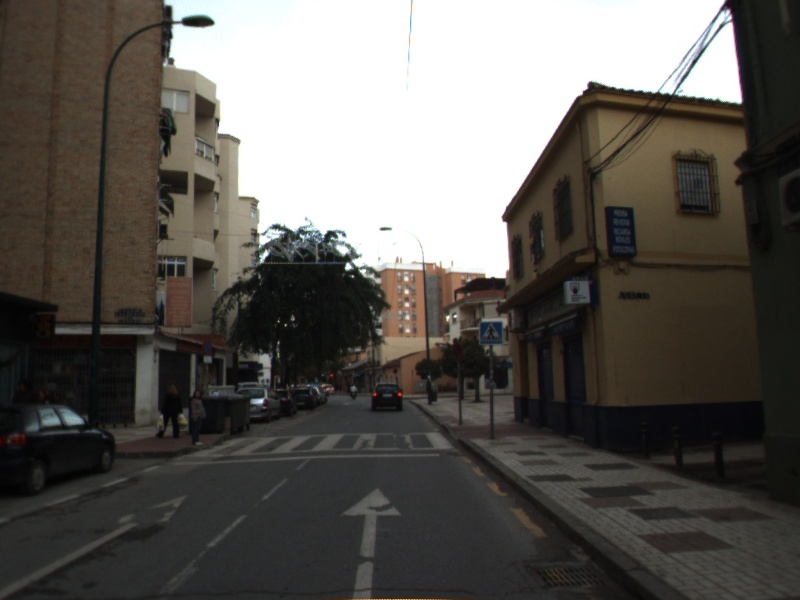STRAIGHT: (1, 492, 190, 600), (336, 486, 405, 600)
